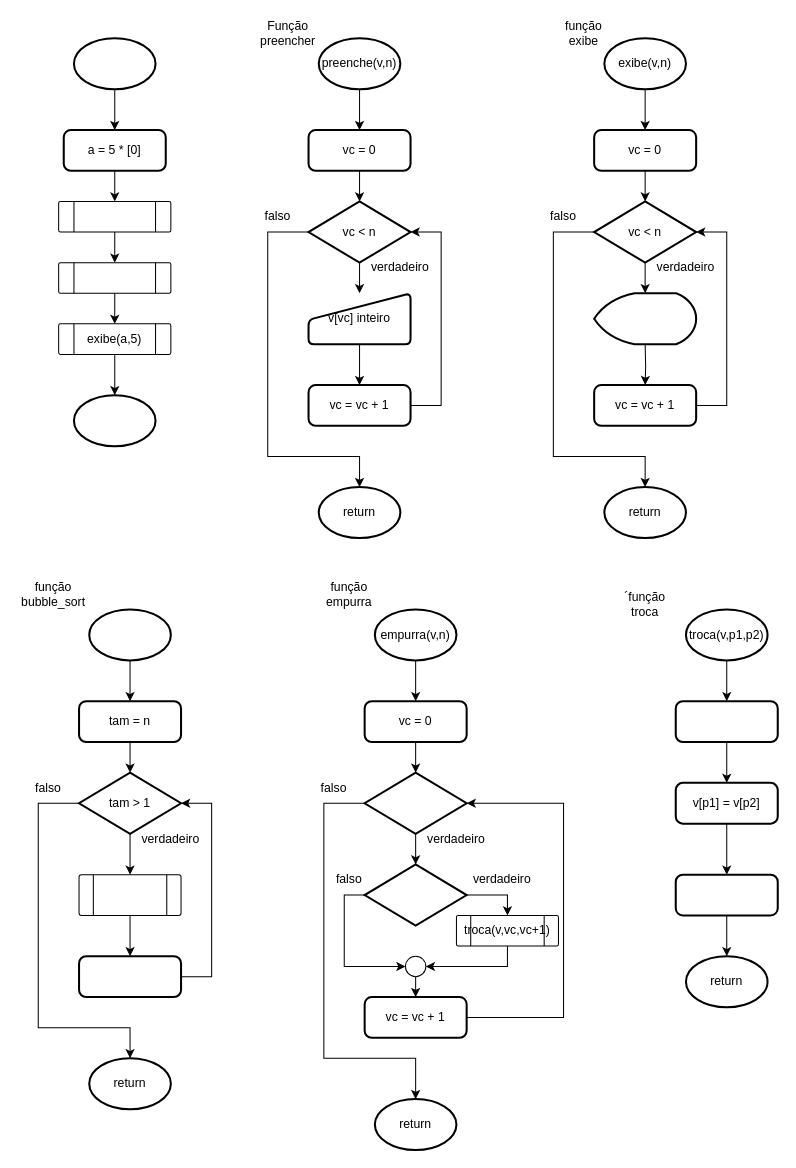
Some shapes in this 796 by 1168 pixel diagram are drawn without their labels. The shapes that lost their labels are listed below. From the top down, each one's centre as x and y in pixels, then its label:
the point at 114,63: inicio
the point at 114,216: preenche(a,5)
the point at 114,277: bubble_sort(a,5)
the point at 645,318: v[vc]
the point at 114,420: fim
the point at 129,634: bubble_sort(v,n)
the point at 726,721: temp = v[p1]
the point at 415,802: vc < n - 1
the point at 129,894: empurra(v,tam)
the point at 415,894: v[vc]>v[vc+1]
the point at 726,894: v[p2] = temp
the point at 130,976: tam = tam - 1
